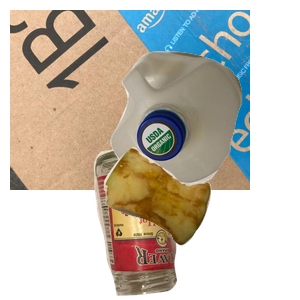cardboard: (10, 10, 250, 190)
glass: (91, 142, 260, 300)
plastic: (108, 49, 300, 226)
trash: (101, 145, 300, 300)
